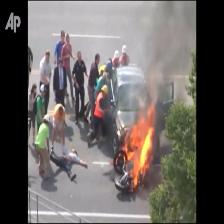fire: (116, 98, 160, 197)
nofire: (95, 85, 109, 127)
smoke: (120, 0, 194, 100)
